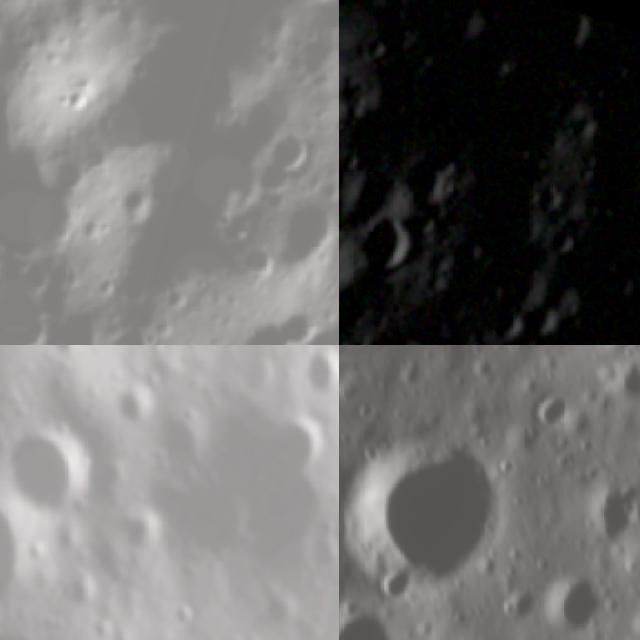crater: (339, 393, 535, 632), (154, 396, 339, 554), (550, 70, 640, 213), (0, 417, 100, 517), (340, 204, 427, 291), (382, 142, 465, 225), (271, 183, 339, 283), (0, 253, 71, 345), (568, 460, 640, 546), (537, 562, 616, 640), (0, 490, 41, 612), (534, 0, 601, 63), (339, 591, 424, 640), (272, 408, 330, 473), (264, 292, 335, 345), (259, 119, 319, 180), (228, 232, 288, 293), (524, 383, 584, 444), (110, 174, 169, 236), (606, 183, 640, 280), (96, 306, 167, 345), (510, 296, 565, 345), (82, 454, 134, 504), (292, 345, 339, 399), (263, 584, 307, 640), (613, 515, 640, 604), (92, 534, 132, 594), (476, 300, 527, 345), (523, 179, 570, 227), (121, 509, 167, 558), (346, 28, 393, 75), (344, 322, 439, 345), (595, 265, 640, 309), (503, 177, 546, 220), (114, 392, 160, 431), (596, 52, 637, 94), (236, 358, 276, 400), (307, 525, 339, 574), (537, 228, 576, 267), (585, 248, 622, 286), (62, 573, 97, 611), (339, 216, 352, 315), (480, 178, 512, 210), (170, 600, 198, 632)
